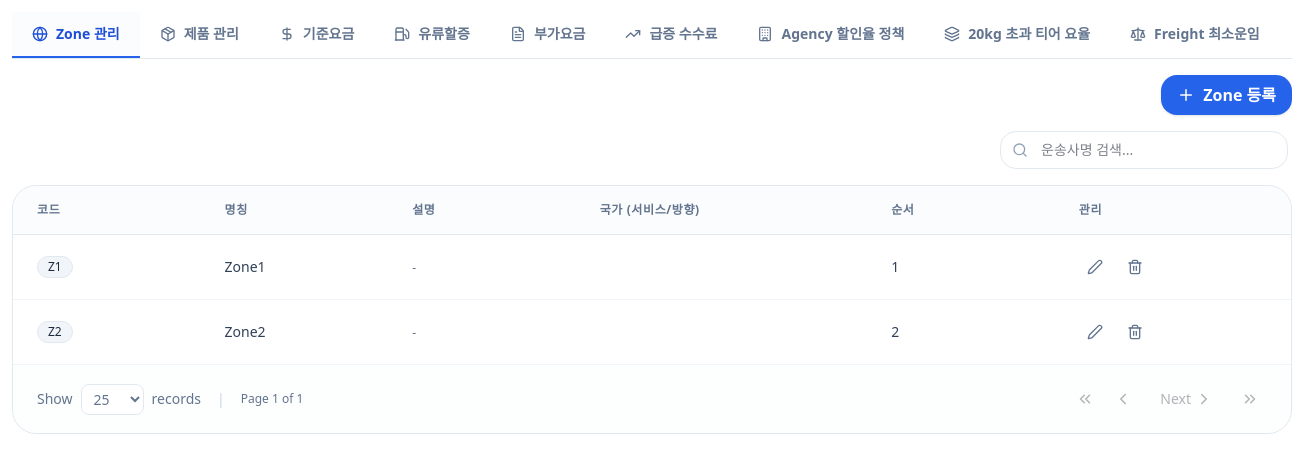
it: TC-UPS-RATES-PIVOT-01: AgencyPolicyTable (agency_org_id, cargo_type) pivot › Zone 컬럼 헤더가 활성 Zone 코드로 렌더링된다
Click the button "Agency 할인율 정책". click: (831, 35)
box: [738,12,924,58]
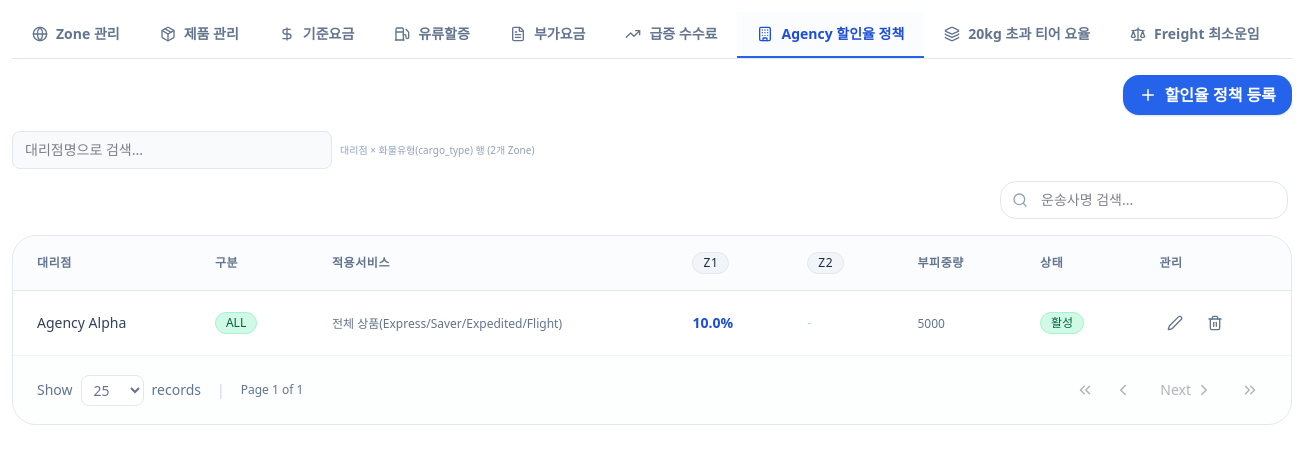
Expected: the text "Z1" is shown, [692,252,729,274]
Now the text "Agency Alpha" is shown once, box [37,313,126,332]
